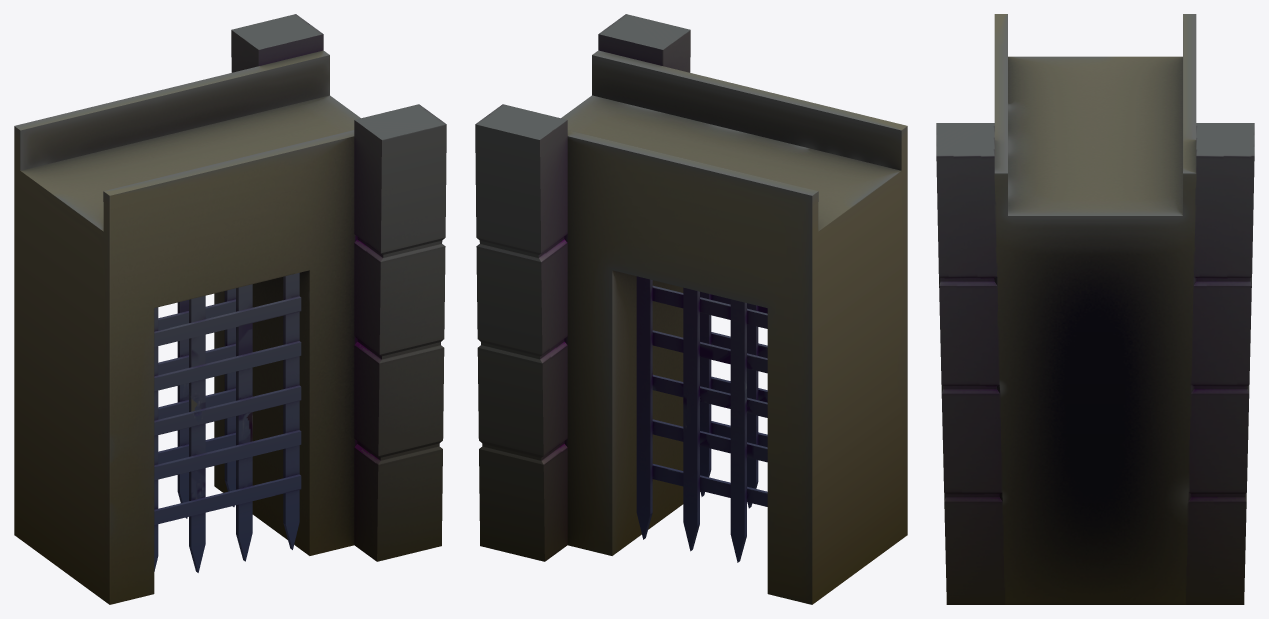
File: wallK.fbx
3 renders of one model, left to right at view 1: azimuth 30°, elevation 25°; view 2: azimuth 150°, elevation 25°; view 3: azimuth 270°, elevation 25°, orthographic. The views are drawn at different scales.
Visible parts, largest first — view 1: wallk, kapi; view 2: wallk, kapi; view 3: wallk.
Part boxes in pixels (left/top/right/bottom): wallk: left=14, top=14, right=446, bottom=604; kapi: left=154, top=273, right=301, bottom=572; wallk: left=475, top=14, right=907, bottom=604; kapi: left=636, top=276, right=767, bottom=562; wallk: left=936, top=14, right=1254, bottom=604.
Size of the model in its own units: 713 by 936 by 602.
Materials: 1 (1 with a texture image).
